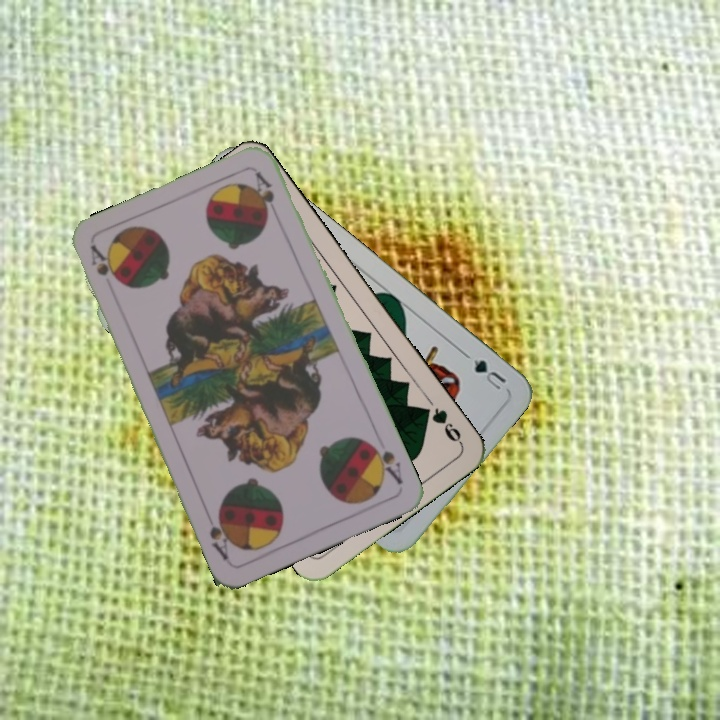G9: (416, 402, 465, 447)
GU: (469, 355, 509, 393)
SA: (364, 438, 406, 488), (86, 241, 120, 285)
